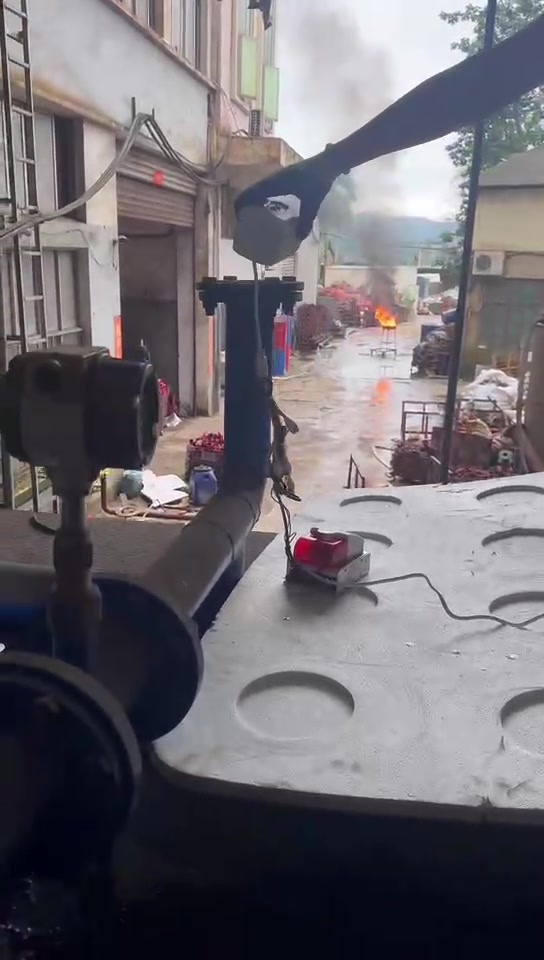fire: (373, 304, 396, 325)
